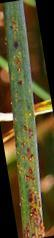Wheat: (23, 152, 38, 238), (16, 70, 29, 148), (11, 12, 24, 65)
